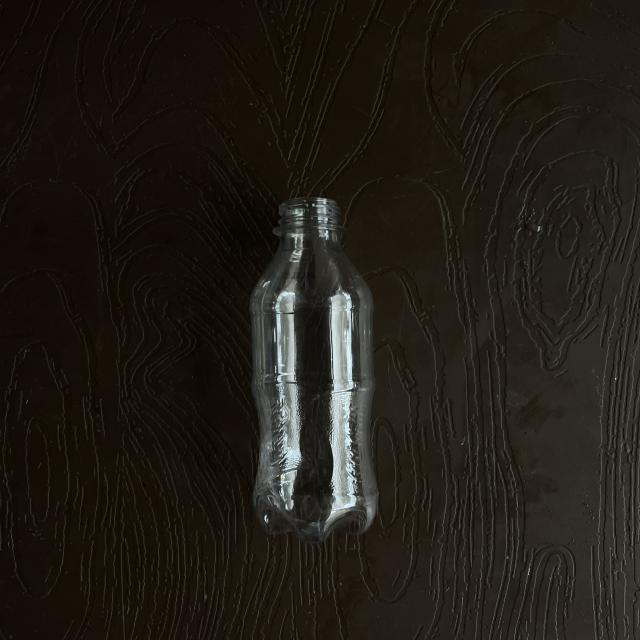PET_ClearBottle: (241, 192, 390, 534)
